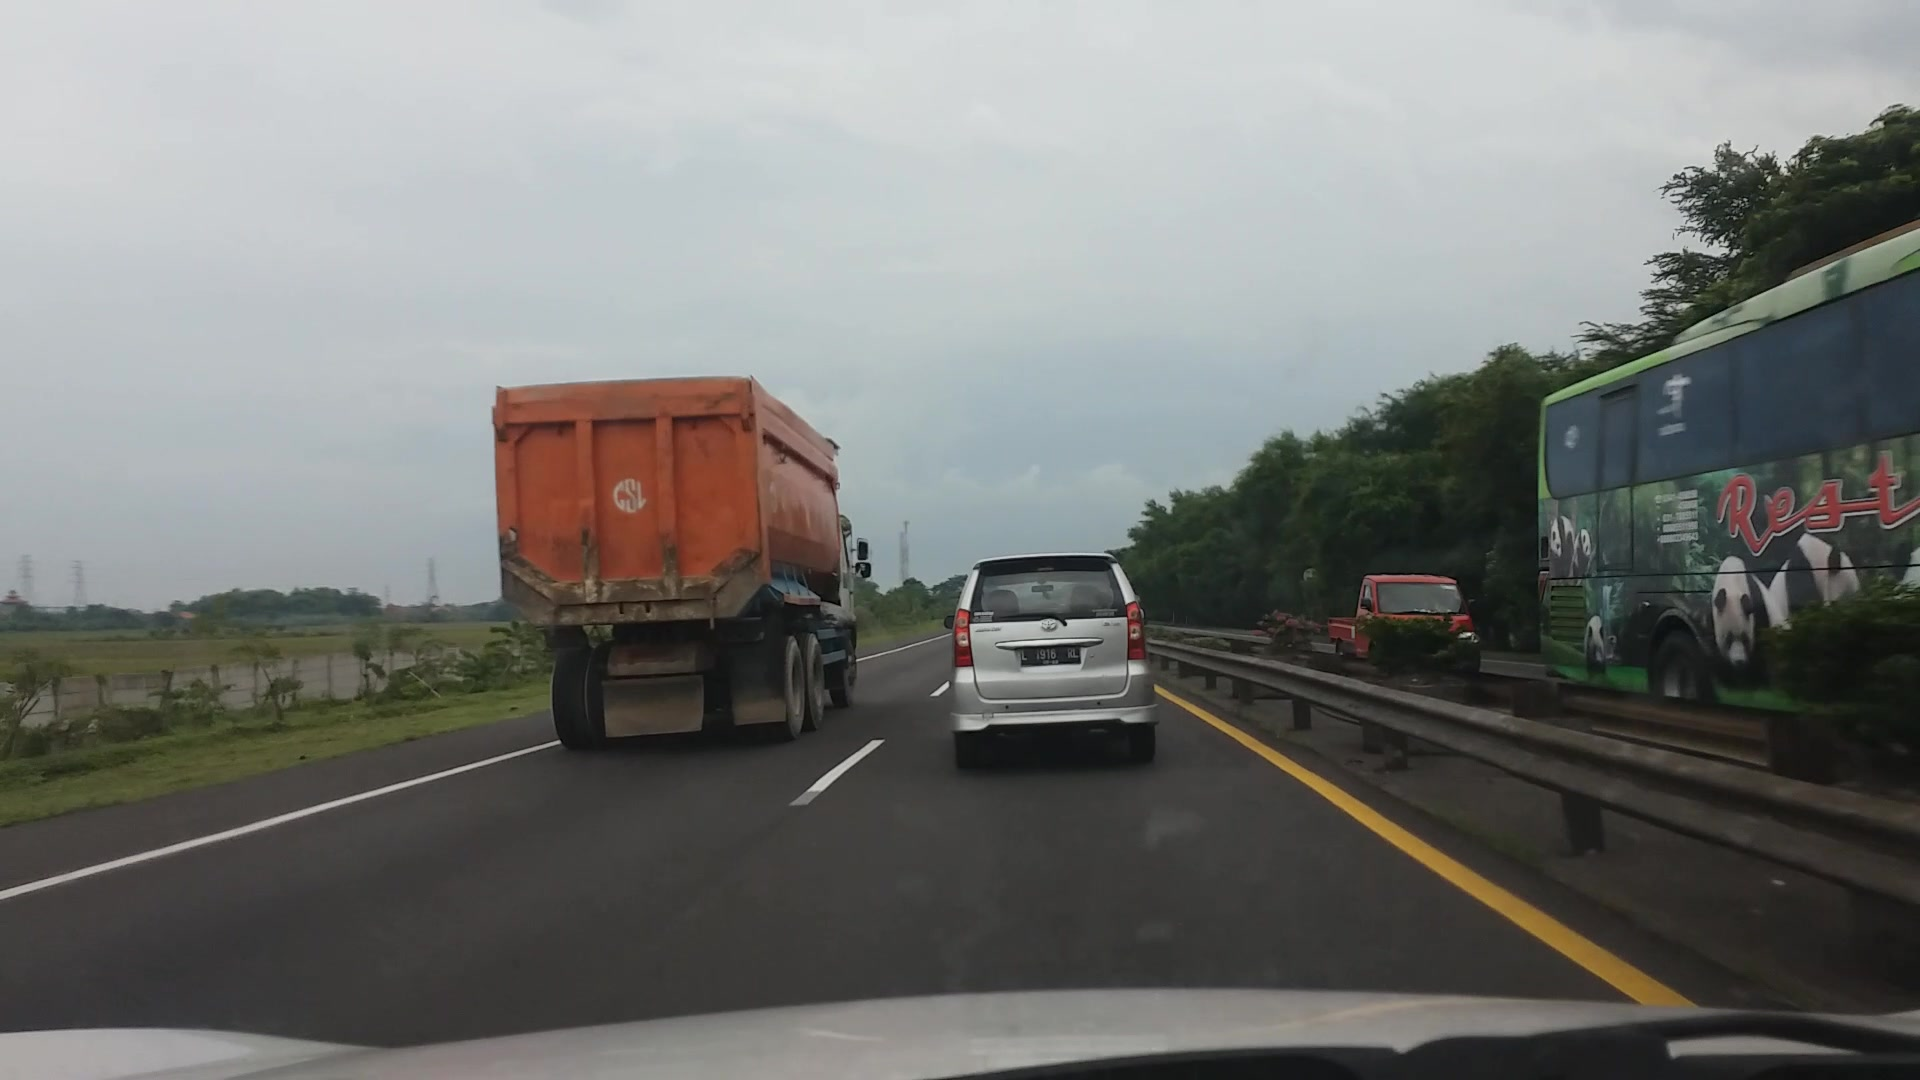plate_positive: (1021, 646, 1081, 665)
